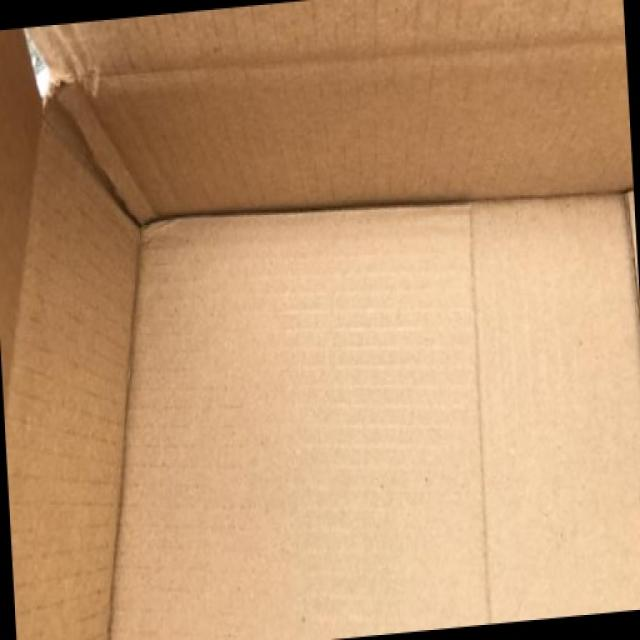carton: (20, 4, 568, 520)
